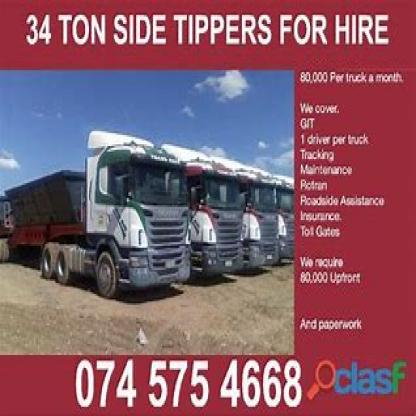dump_truck: (6, 113, 194, 307), (191, 148, 238, 283), (238, 163, 287, 268)
